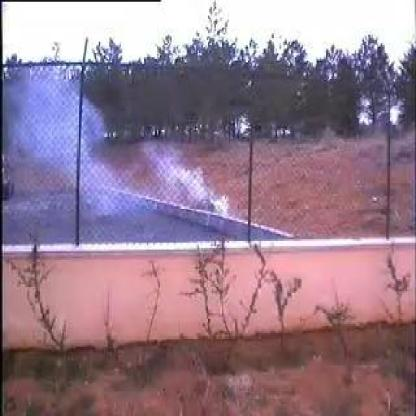-: (13, 79, 233, 221)
